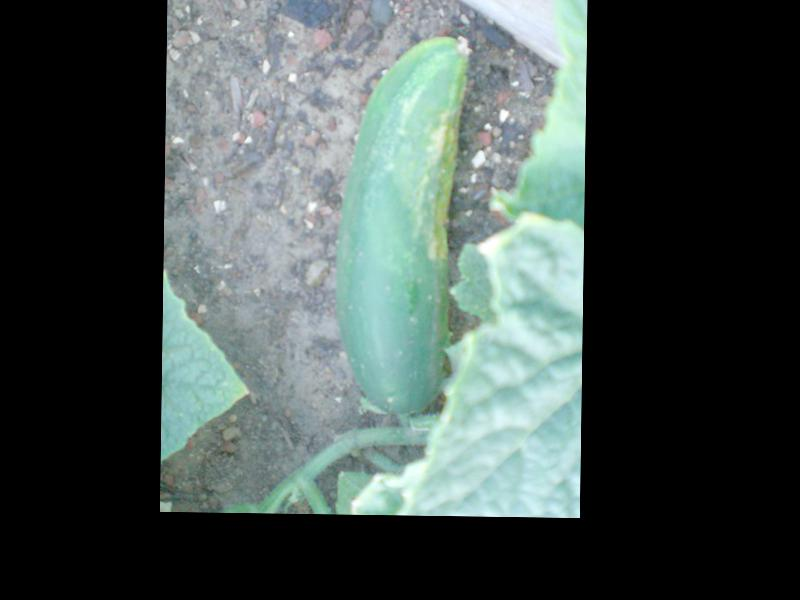Cucumber: (335, 34, 470, 414)
